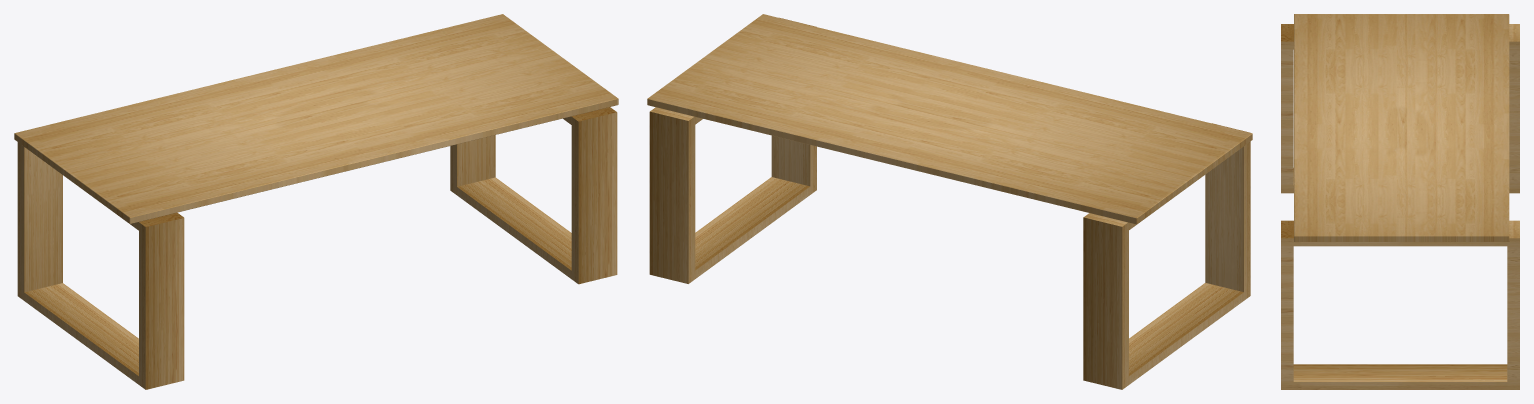
Rendered from table.dae.
The picture shows the model from 3 angles, left to right: view 1: azimuth 30°, elevation 25°; view 2: azimuth 150°, elevation 25°; view 3: azimuth 270°, elevation 25°; orthographic projection. The views are drawn at different scales.
Visible parts, largest first — view 1: Cube_001; view 2: Cube_001; view 3: Cube_001.
Part boxes in pixels (box(x1,y1,x2,y2)): Cube_001: box(14, 14, 618, 389); Cube_001: box(647, 14, 1252, 389); Cube_001: box(1281, 14, 1519, 389).
Bounding box in the file's own units: 3.08 × 1.4 × 1.02.
2 materials, 2 textured.
